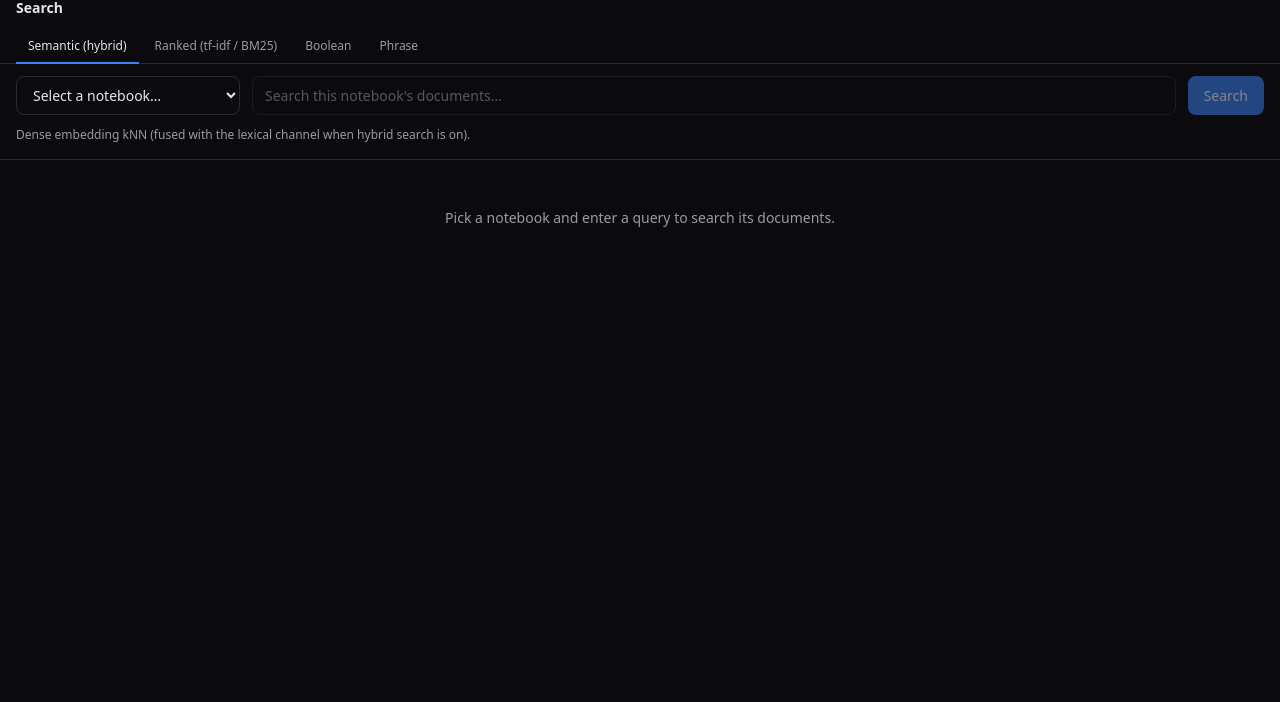
Test: SearchPage › labels a truncated result list and fetches more with a larger k
Click the tab "Ranked (tf-idf / BM25)" at (216, 47), box left=143, top=30, right=289, bottom=64
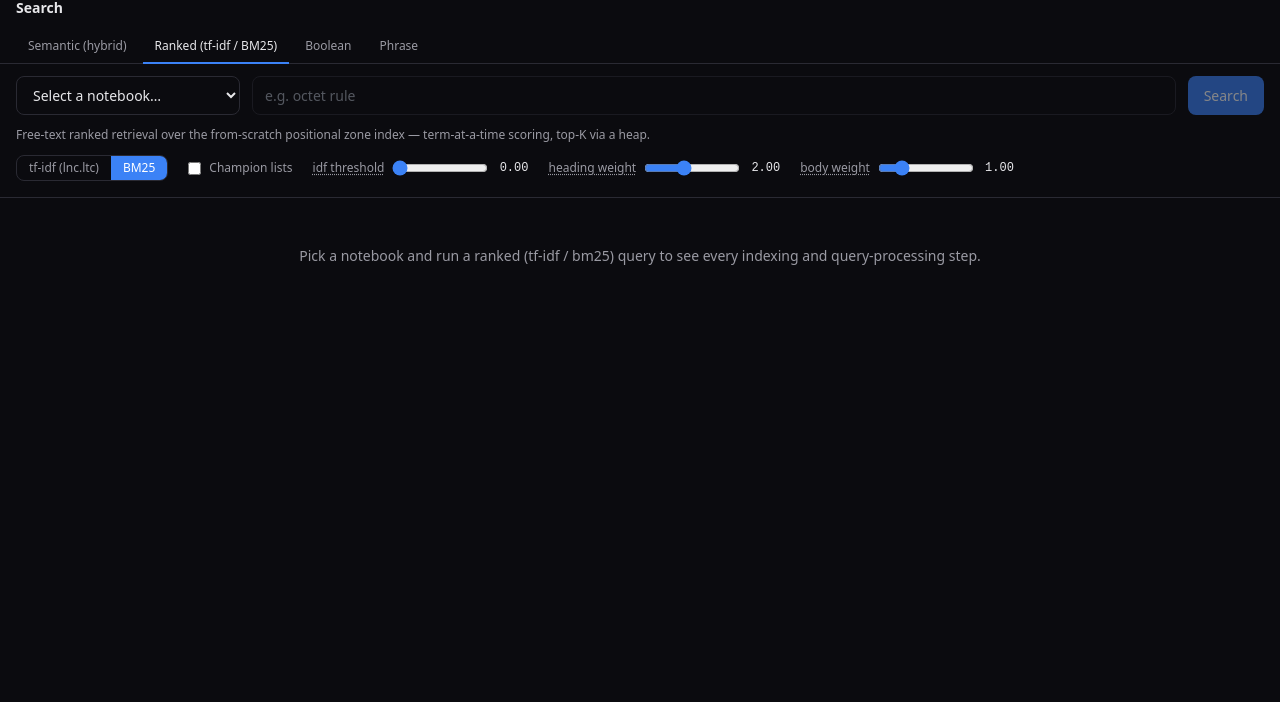
Select "Chemistry" in the dropdown named "Notebook" at (128, 96), box left=16, top=76, right=240, bottom=115
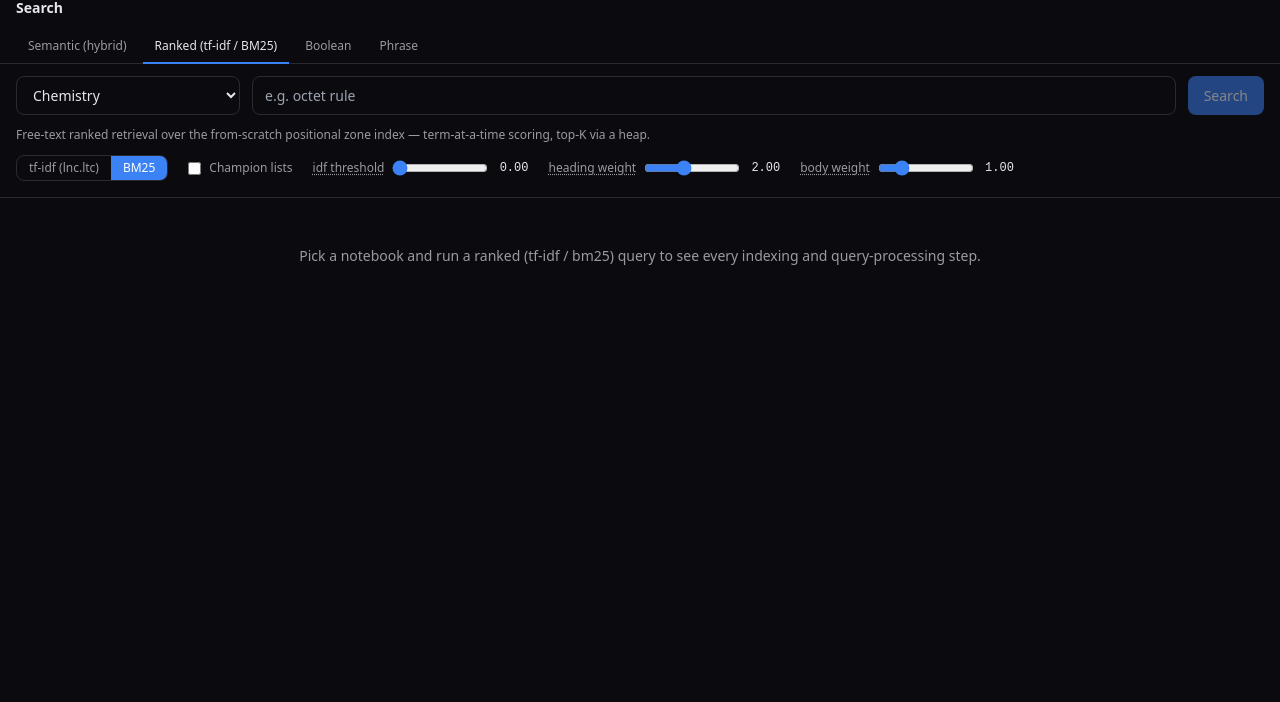
Type "octet rule" into the field named "Query" at (714, 96), box left=252, top=76, right=1176, bottom=115
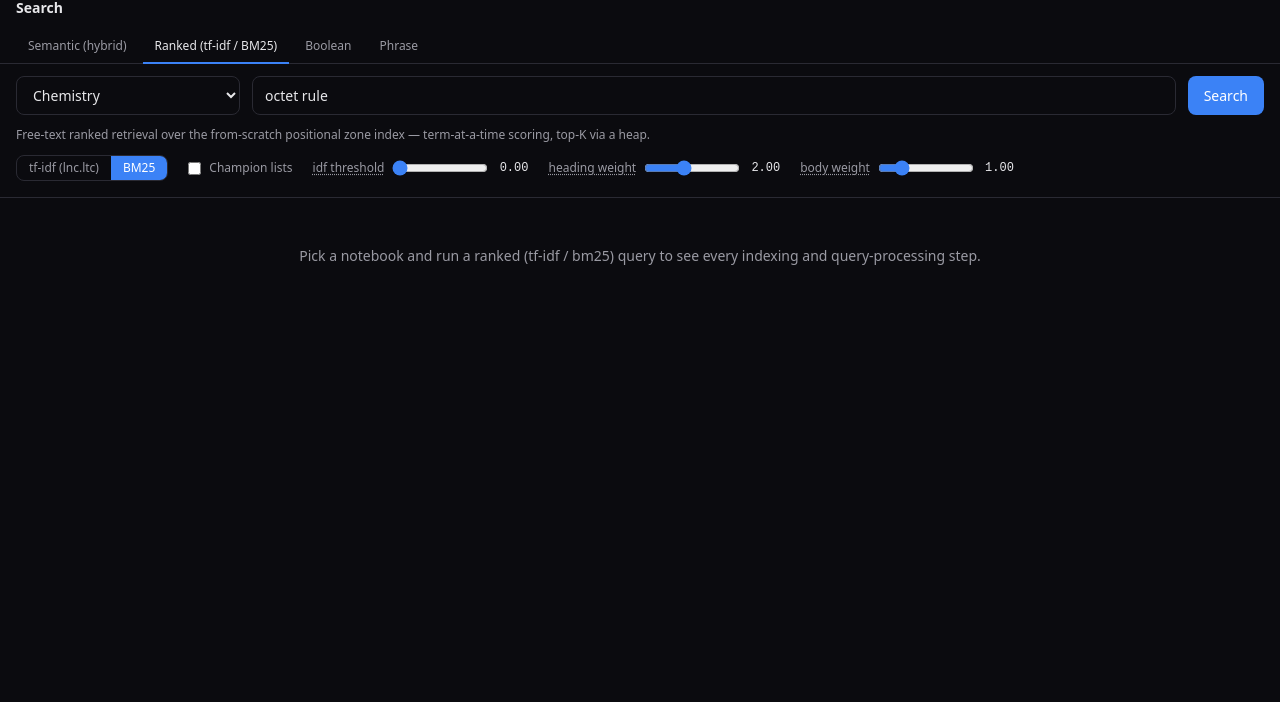
Click the button "Search" at (1226, 96), box left=1188, top=76, right=1264, bottom=115
(page scrolled)
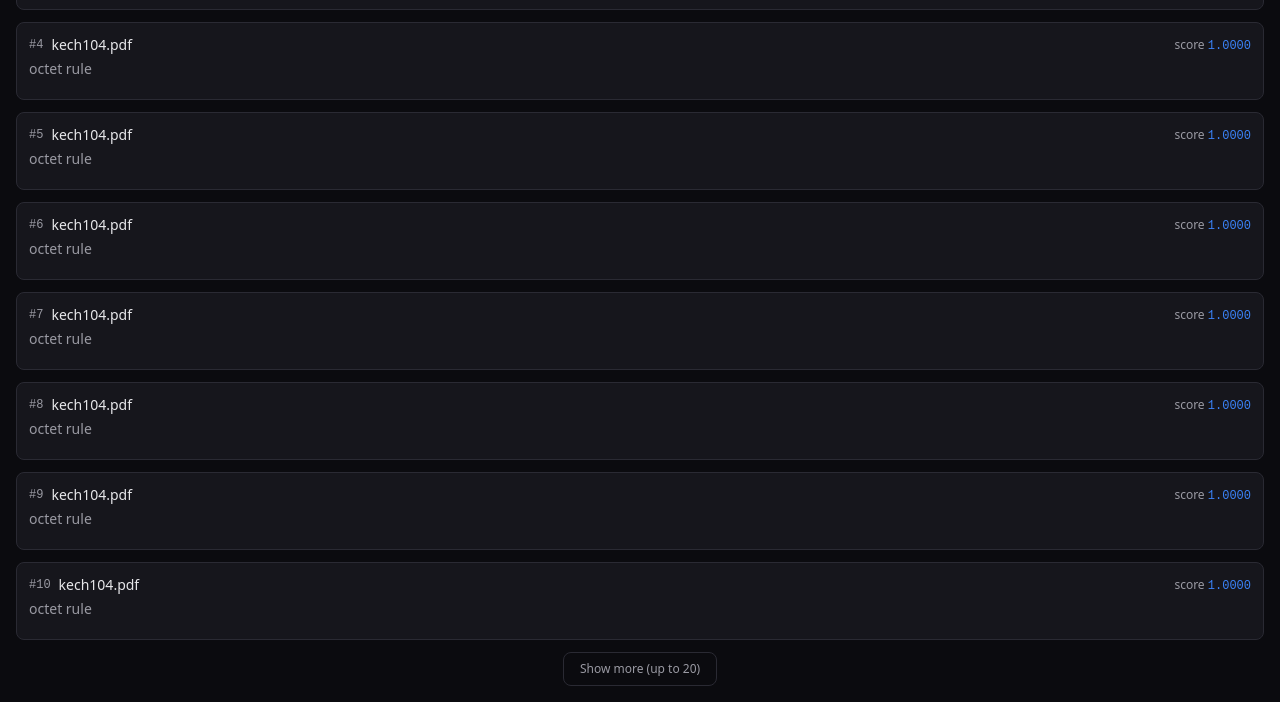
Click the button "Show more (up to 20)" at (640, 669), box left=563, top=652, right=717, bottom=686
(page scrolled)
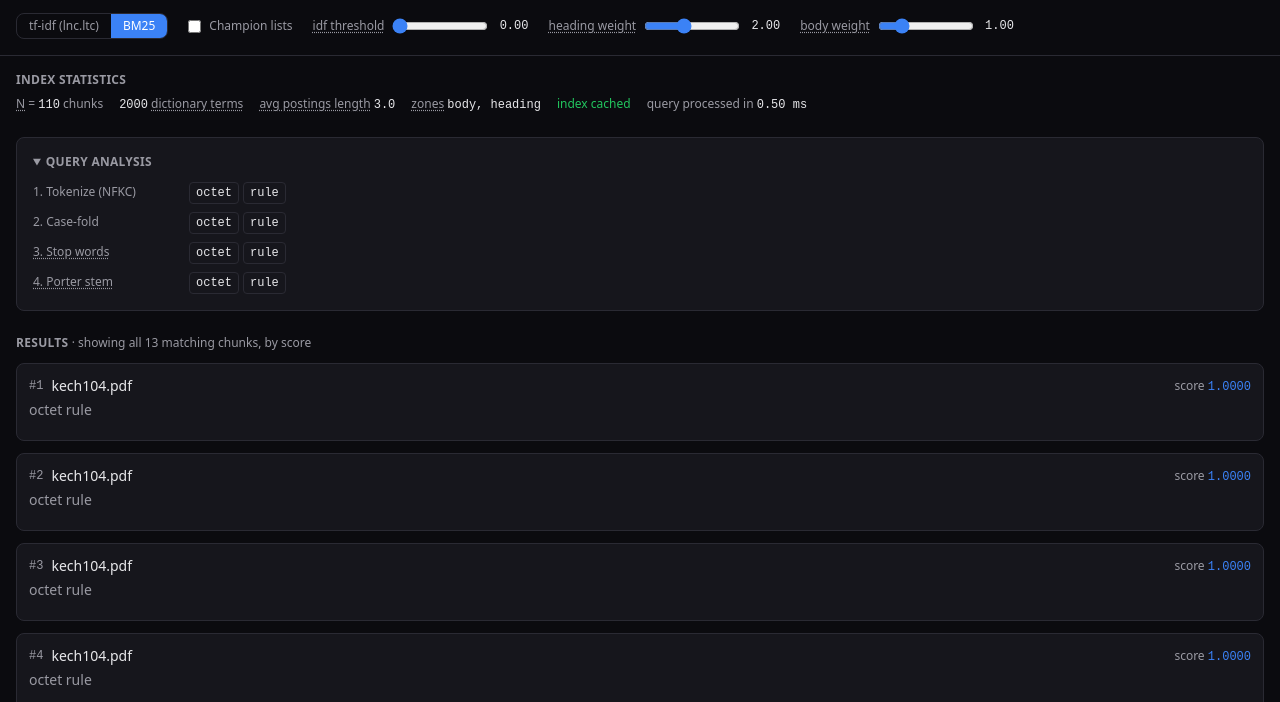
Result: the text with test id "results-count" shows "showing all 13 matching chunks" at left=68, top=334, right=311, bottom=351
Result: the button "Show more" is gone
